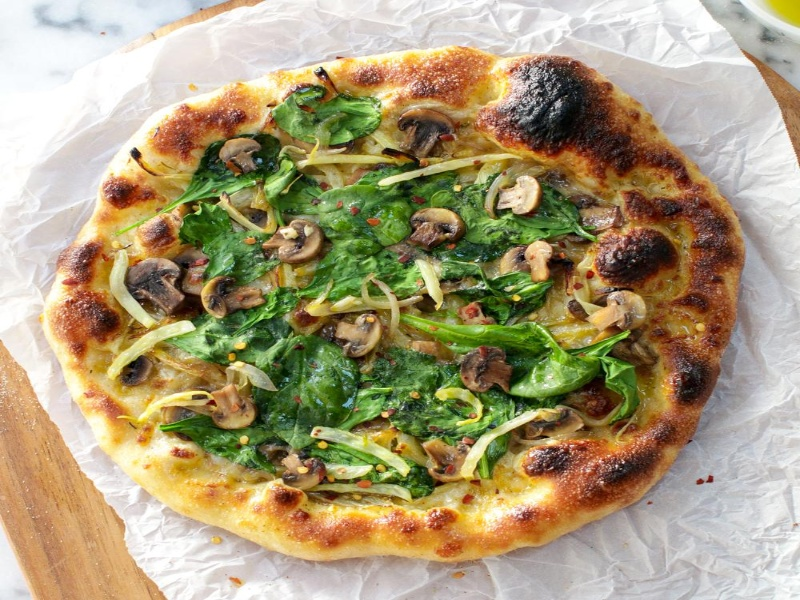champignon: (123, 254, 190, 319), (397, 104, 459, 168), (198, 273, 267, 325), (586, 286, 655, 336), (326, 311, 389, 363), (266, 216, 324, 270), (200, 385, 263, 431), (406, 204, 466, 250), (493, 171, 544, 223), (274, 450, 329, 496)
